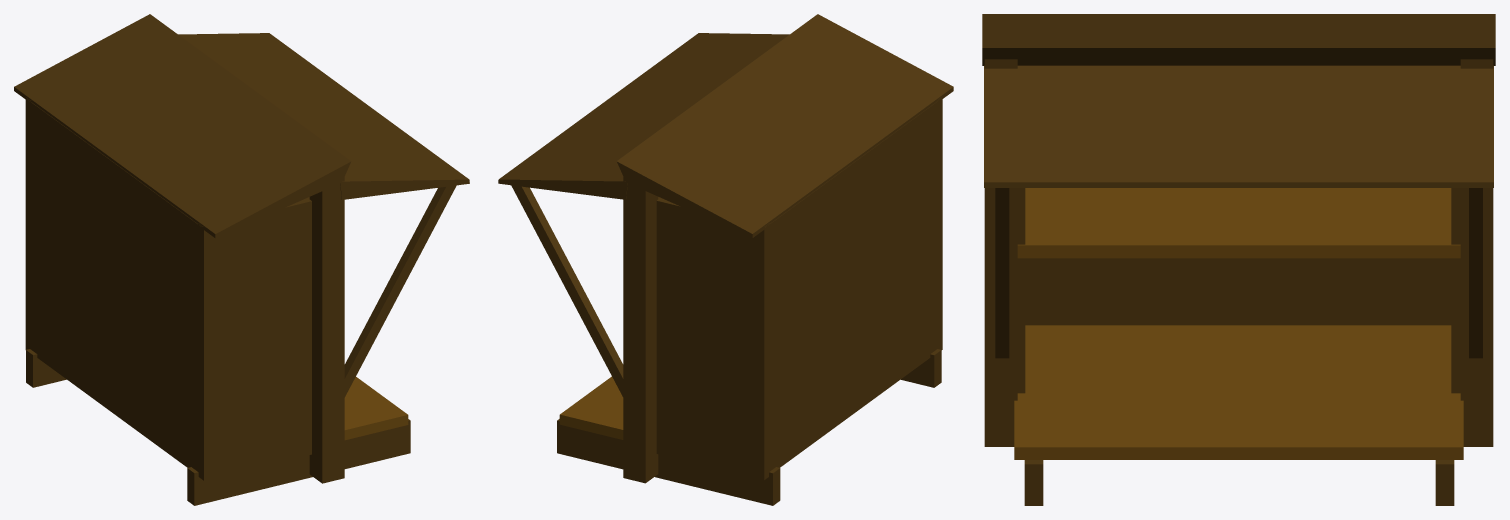
Rendered from producestand.fbx.
The picture shows the model from 3 angles, left to right: view 1: azimuth 30°, elevation 25°; view 2: azimuth 150°, elevation 25°; view 3: azimuth 270°, elevation 25°; orthographic projection. The views are drawn at different scales.
Parts seen in each view (by area): view 1: Cube.006, Cube.009, Cube.007, Cube.010, Cube, Cube.004, Cube.001, Cube.003, Cube.005, Cube.008; view 2: Cube.006, Cube.009, Cube.008, Cube.010, Cube.011, Cube.005, Cube.012, Cube.003, Cube.004, Cube.007; view 3: Cube.010, Cube.003, Cube.002, Cube.006, Cube.009, Cube, Cube.011, Cube.001, Cube.012, Cube.008, Cube.007, Cube.004 (+1 smaller).
Part boxes in pixels (left/top/right/bottom): Cube.006: left=26, top=99, right=202, bottom=478; Cube.009: left=14, top=14, right=351, bottom=238; Cube.007: left=198, top=197, right=311, bottom=480; Cube.010: left=178, top=33, right=469, bottom=199; Cube: left=309, top=177, right=344, bottom=483; Cube.004: left=187, top=419, right=410, bottom=505; Cube.001: left=344, top=185, right=456, bottom=397; Cube.003: left=344, top=377, right=408, bottom=440; Cube.005: left=26, top=349, right=66, bottom=387; Cube.008: left=25, top=97, right=31, bottom=349; Cube.006: left=765, top=98, right=941, bottom=478; Cube.009: left=616, top=14, right=953, bottom=238; Cube.008: left=656, top=197, right=769, bottom=479; Cube.010: left=498, top=33, right=789, bottom=199; Cube.011: left=623, top=177, right=658, bottom=483; Cube.005: left=557, top=419, right=780, bottom=505; Cube.012: left=511, top=185, right=623, bottom=396; Cube.003: left=559, top=376, right=623, bottom=439; Cube.004: left=901, top=349, right=941, bottom=387; Cube.007: left=937, top=96, right=942, bottom=349; Cube.010: left=984, top=65, right=1493, bottom=187; Cube.003: left=1014, top=325, right=1463, bottom=459; Cube.002: left=1017, top=188, right=1460, bottom=258; Cube.006: left=1025, top=258, right=1451, bottom=325; Cube.009: left=982, top=14, right=1495, bottom=65; Cube: left=984, top=59, right=1017, bottom=446; Cube.011: left=1460, top=59, right=1493, bottom=446; Cube.001: left=995, top=188, right=1009, bottom=358; Cube.012: left=1469, top=188, right=1482, bottom=358; Cube.008: left=1451, top=188, right=1460, bottom=393; Cube.007: left=1017, top=188, right=1025, bottom=393; Cube.004: left=1024, top=460, right=1043, bottom=505.
Size of the model in its own units: 692 by 823 by 931.
